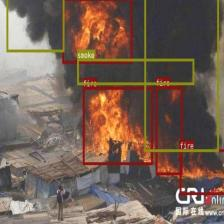fire: (82, 86, 152, 164), (62, 0, 132, 63), (155, 86, 182, 174), (179, 149, 224, 194)
smoke: (144, 0, 219, 151), (77, 58, 194, 85), (6, 0, 64, 52)
